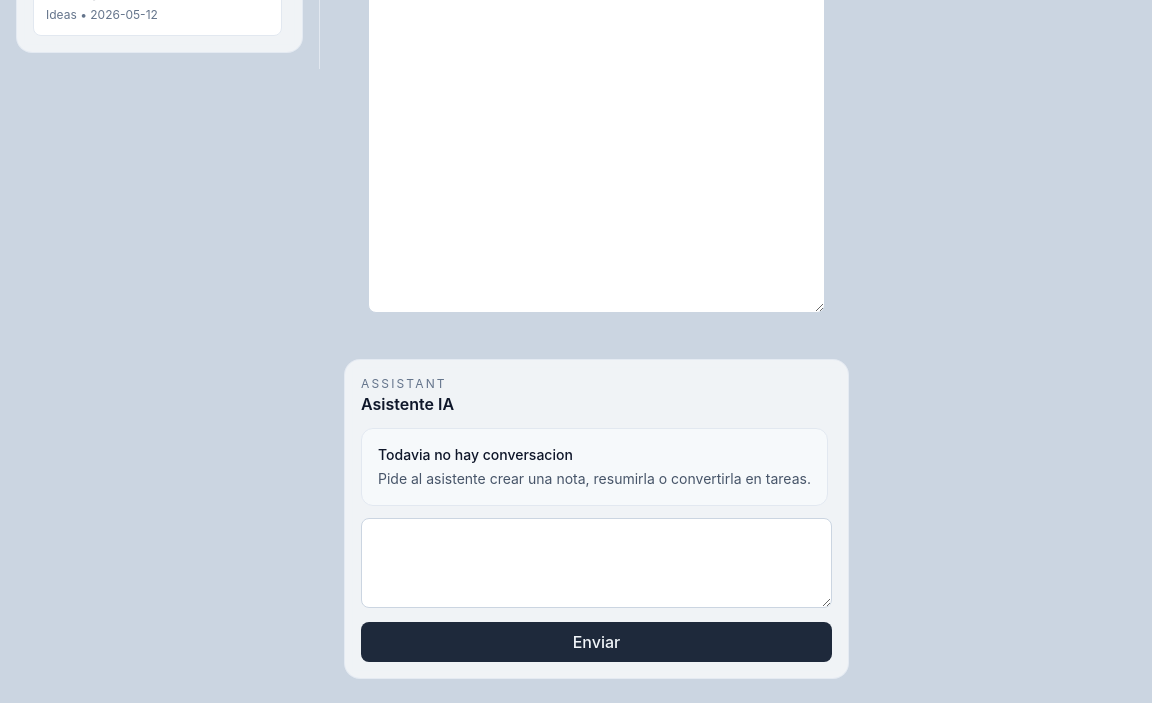
Test: App integration › crea nota desde chatbot y aparece en lista
(page scrolled)
Type "crea una nota sobre React" into the text box named "Comando del asistente". click: (596, 563)
box: [361,518,832,608]
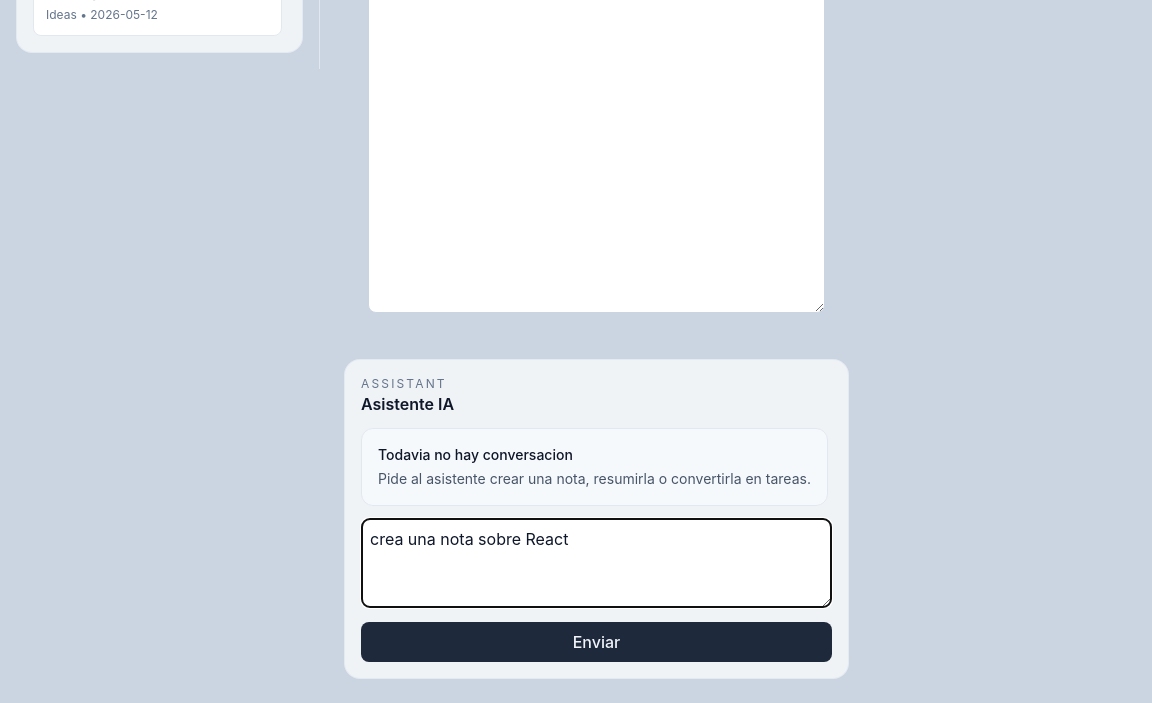
Click the button with aria-label "Enviar comando". click: (596, 642)
box: [361,622,832,662]
(page scrolled)
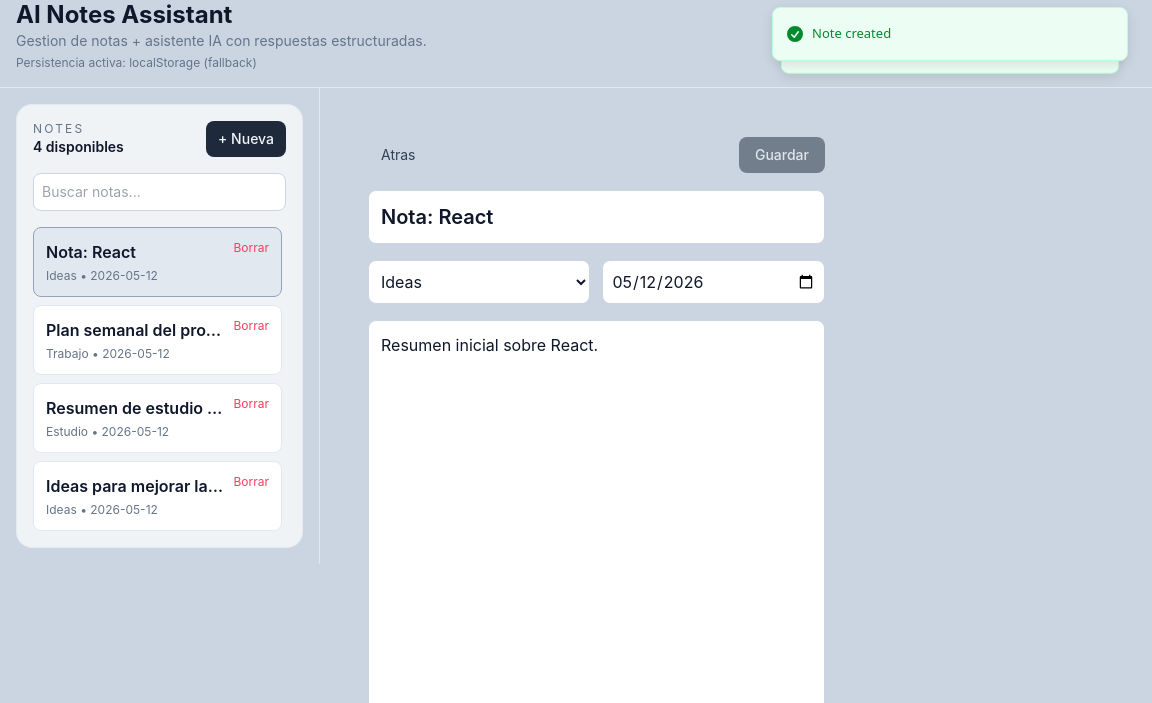
Result: the heading "Nota: React" is shown at [46,240,136,264]
